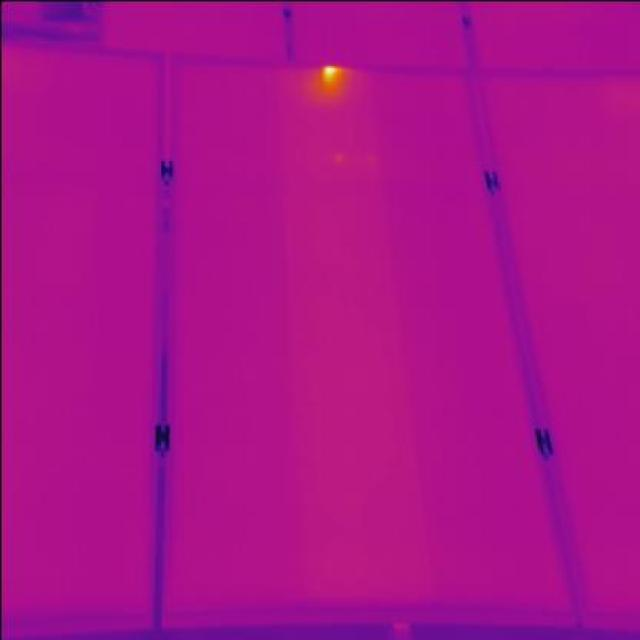hotspot: (316, 62, 339, 83)
